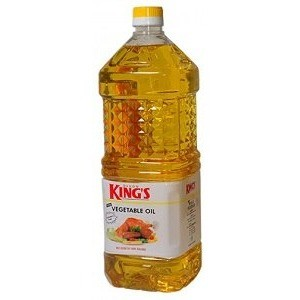vegetable oil_brain food: (103, 88, 197, 248)
